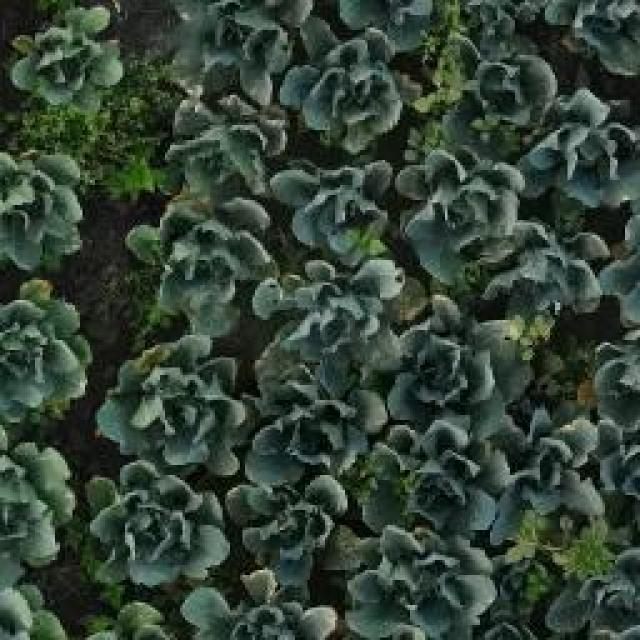cabbage: (367, 290, 522, 436), (243, 338, 381, 480), (133, 188, 270, 324), (277, 20, 417, 151), (106, 336, 249, 462), (87, 459, 229, 582), (401, 143, 525, 279), (345, 527, 493, 640), (358, 420, 496, 537), (269, 140, 400, 260), (480, 407, 610, 523), (0, 0, 130, 112), (531, 85, 640, 210), (437, 31, 558, 142), (166, 0, 296, 103), (0, 277, 93, 420), (160, 90, 286, 194), (258, 243, 403, 333), (0, 139, 91, 274), (225, 470, 350, 568), (0, 434, 83, 570), (493, 226, 610, 322), (536, 532, 640, 640), (180, 570, 339, 640), (555, 0, 640, 80)
